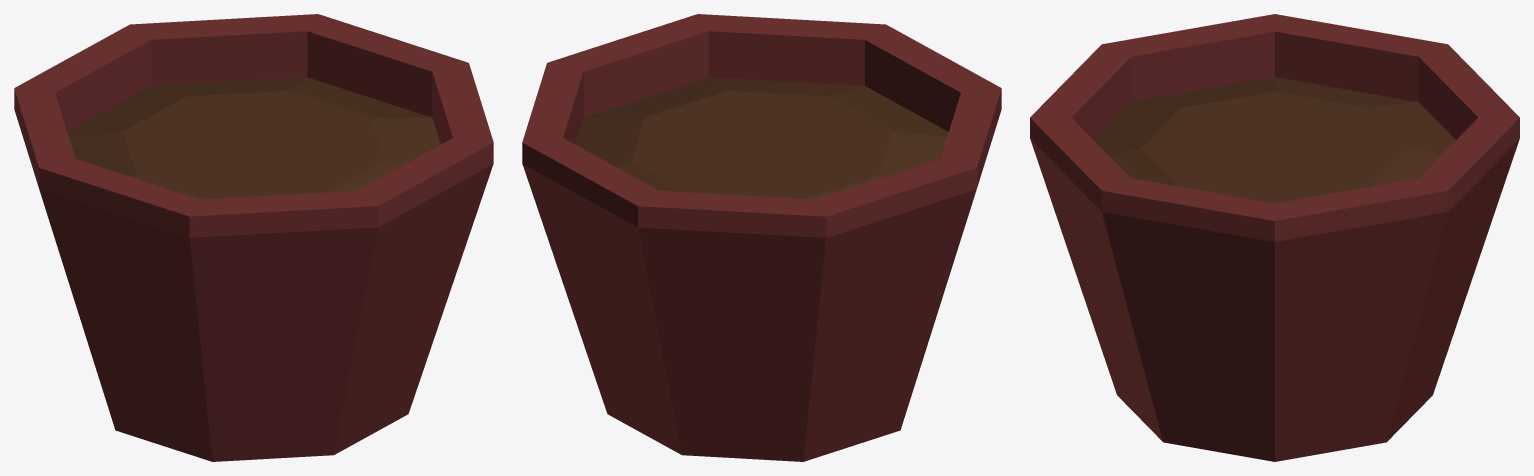
File: Flower_Pot_Small.fbx
3 renders of one model, left to right at view 1: azimuth 30°, elevation 25°; view 2: azimuth 150°, elevation 25°; view 3: azimuth 270°, elevation 25°, orthographic.
Visible parts, largest first — view 1: Cube; view 2: Cube; view 3: Cube.
Boxes of the visible parts, bbox=[...] form: Cube: bbox=[14, 14, 493, 461]; Cube: bbox=[522, 14, 1001, 461]; Cube: bbox=[1030, 14, 1519, 461].
Bounding box in the file's own units: 25.46 × 15.92 × 25.46.
